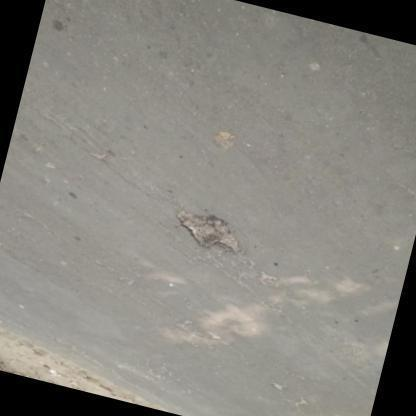pothole: (174, 209, 240, 256)
